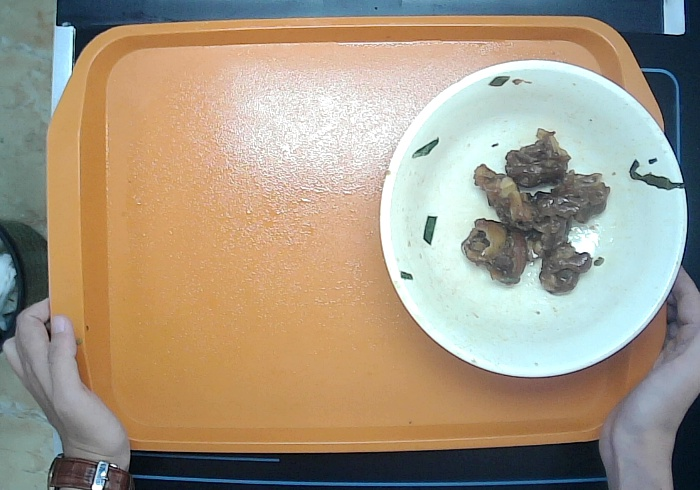ZNLD-Da_Tang_Wan: (363, 55, 692, 388)
